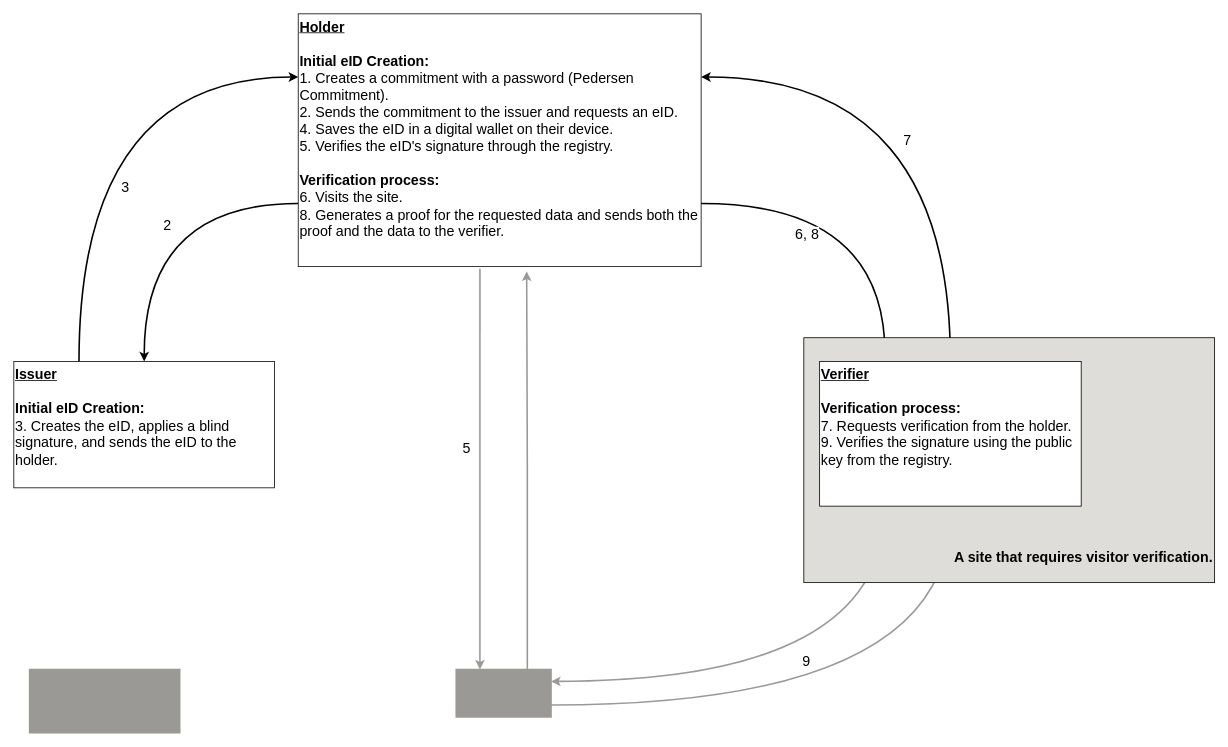
Some shapes in this 1228 by 747 pixel diagram are drawn without their labels. Here are the shapes that lost their labels. From the top down, the centre of each, then its label:
[104,700]: Not implemented in PoC
[503,692]: Registry
